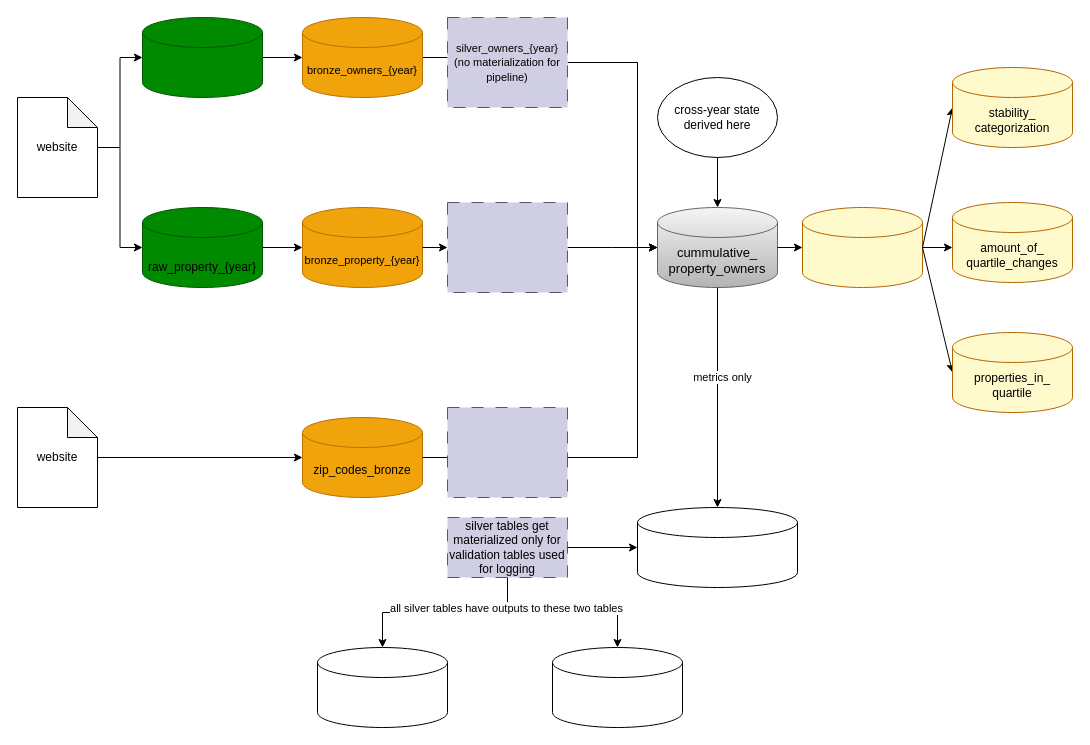
The diagram is 1090 pixels wide and 745 high, and some of its shapes have lost their labels. The centre of each missing label's shape, as x and y in pixels:
cummulative_scd: point 862,247
log_data_quality_tests: point 382,687
log_pipe_line_runs: point 617,687
log_table_metrics: point 717,547
raw_owners_{year}: point 202,57
silver_property_{year} (no materialization): point 507,247
silver_zip_codes (no materialization for pipeline): point 507,452
